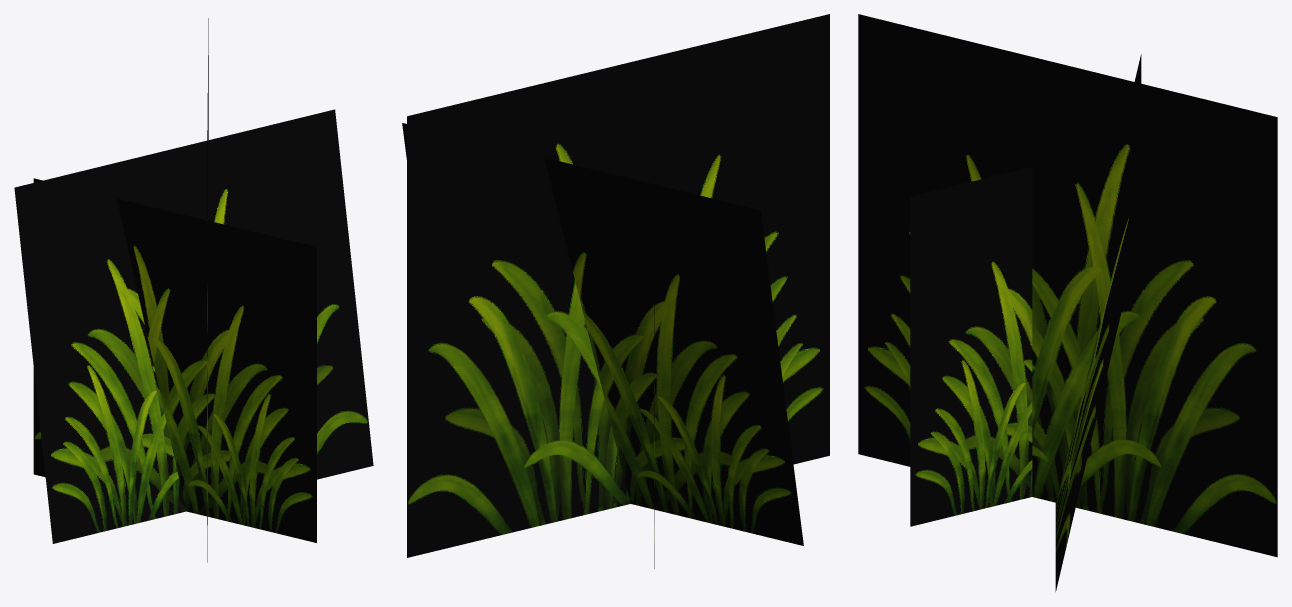
File: grass.glb
3 views of the same model, side by side, from view 1: azimuth 30°, elevation 25°; view 2: azimuth 150°, elevation 25°; view 3: azimuth 270°, elevation 25° (orthographic). The views are drawn at different scales.
Visible parts, largest first — view 1: Plane.002; view 2: Plane.002; view 3: Plane.002.
Boxes of the visible parts, x1,y1,x2,y2 form: Plane.002: (14, 18, 373, 562); Plane.002: (402, 14, 829, 568); Plane.002: (858, 14, 1277, 591).
Size of the model in its own units: 1.7 by 2 by 1.73.
1 material, 1 textured.
